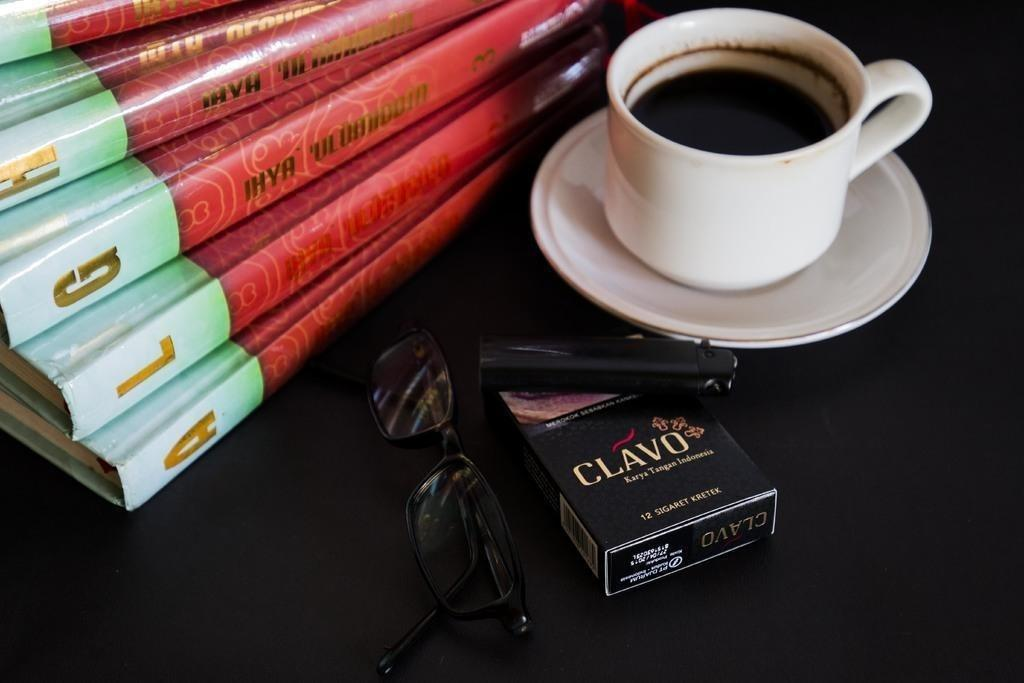cup-handle: (606, 5, 935, 295)
